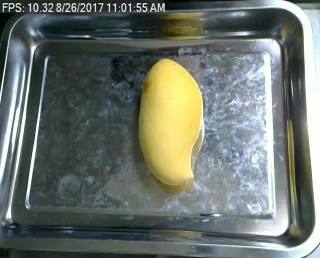Mango: (133, 59, 211, 184)
